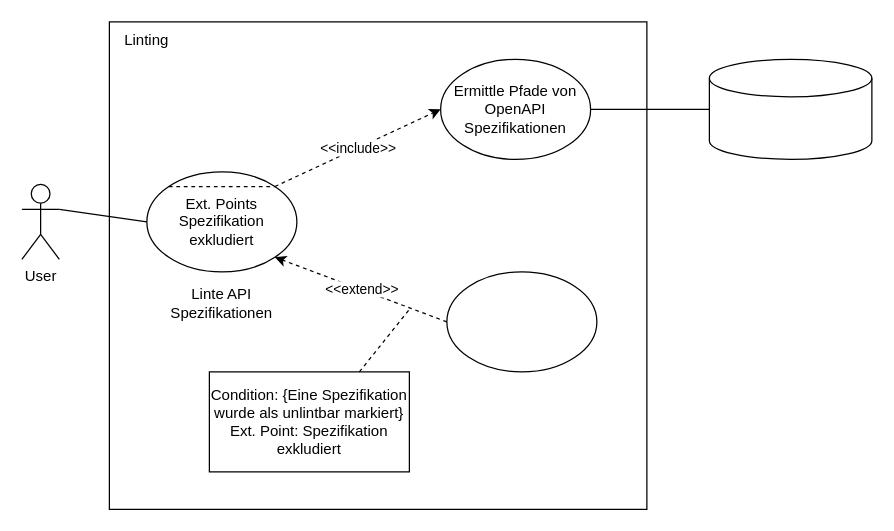
Some shapes in this 894 by 531 pixel diagram are drawn without their labels. The shapes that lost their labels are listed below. From the top down, each one's centre as x and y in pixels, then its label:
At (790,108): "apis.guru".
At (521,321): "Spezifikation vom Linten ausschließen".
